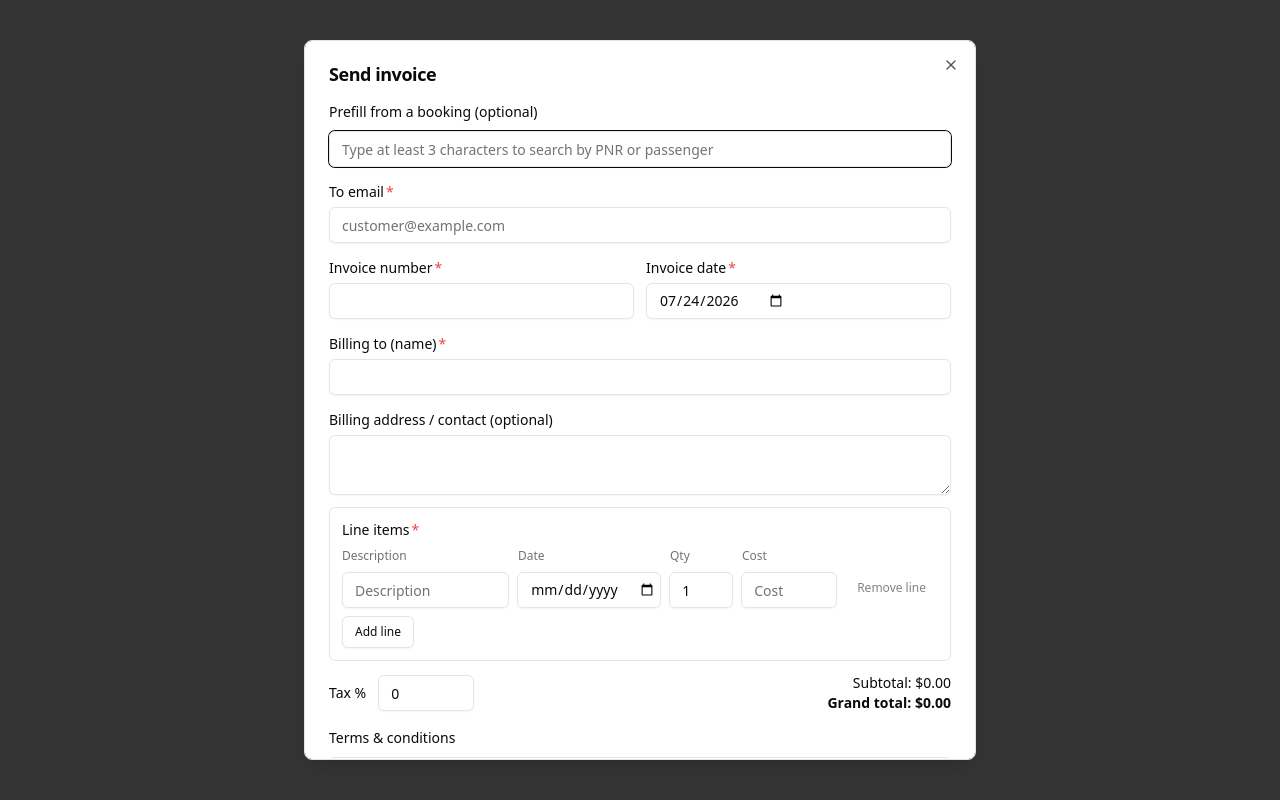
Test: SendInvoiceDialog › computes subtotal and grand total live, applying the tax percentage
Type "GUD" into the field named "Search PNR" at (640, 149), box [329,131,951,167]
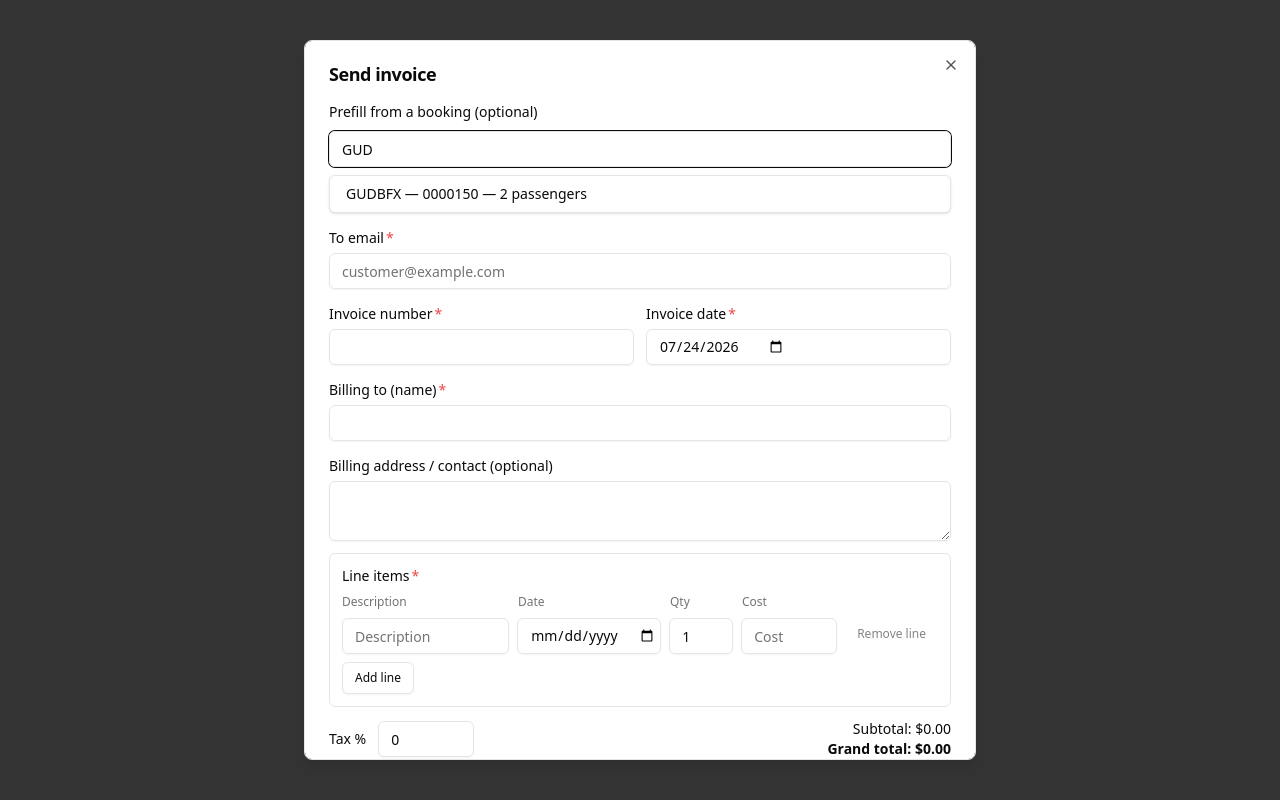
Click the button "GUDBFX — 0000150 — 2 passengers" at (374, 194), box [330,176,950,212]
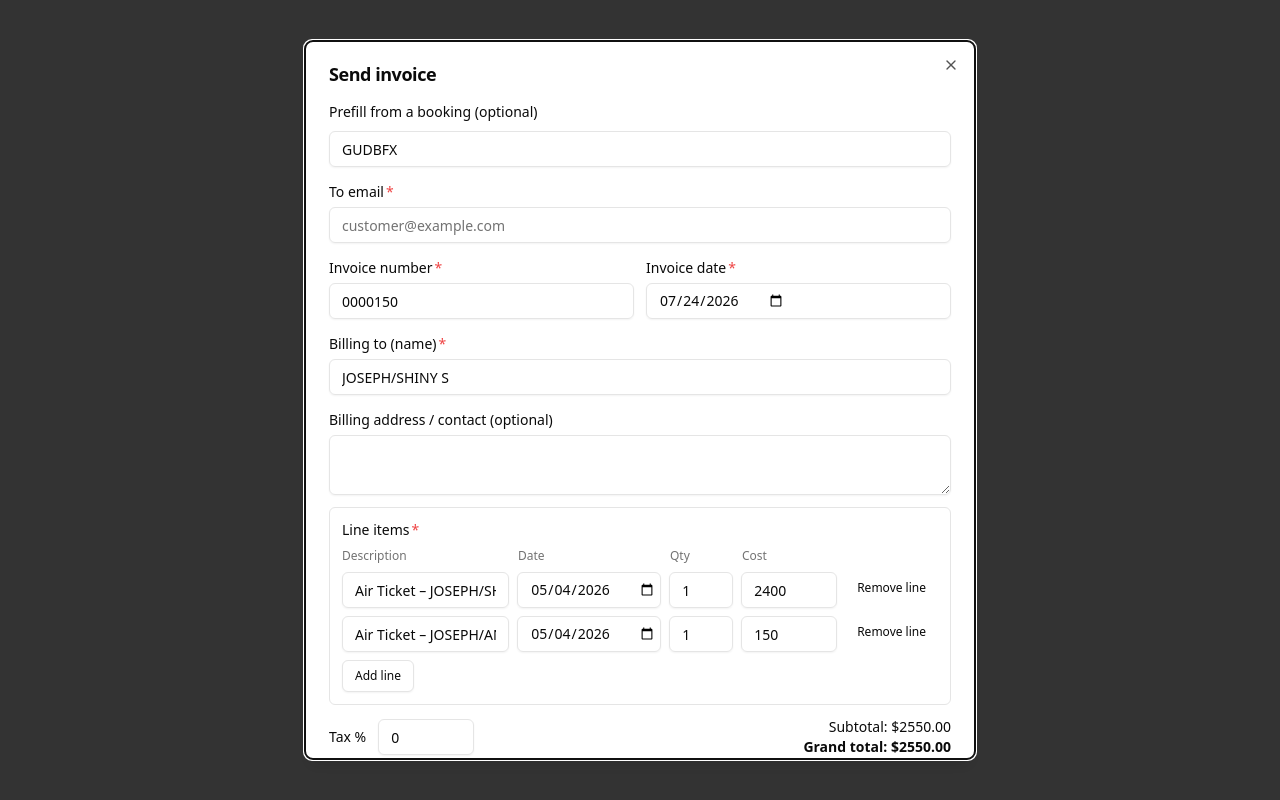
Check: the text "Subtotal: $2550.00" is shown, box [829,717,951,736]
Replace the text in the number field labelled "Tax %" with "10" at (426, 737), box [378,719,474,755]
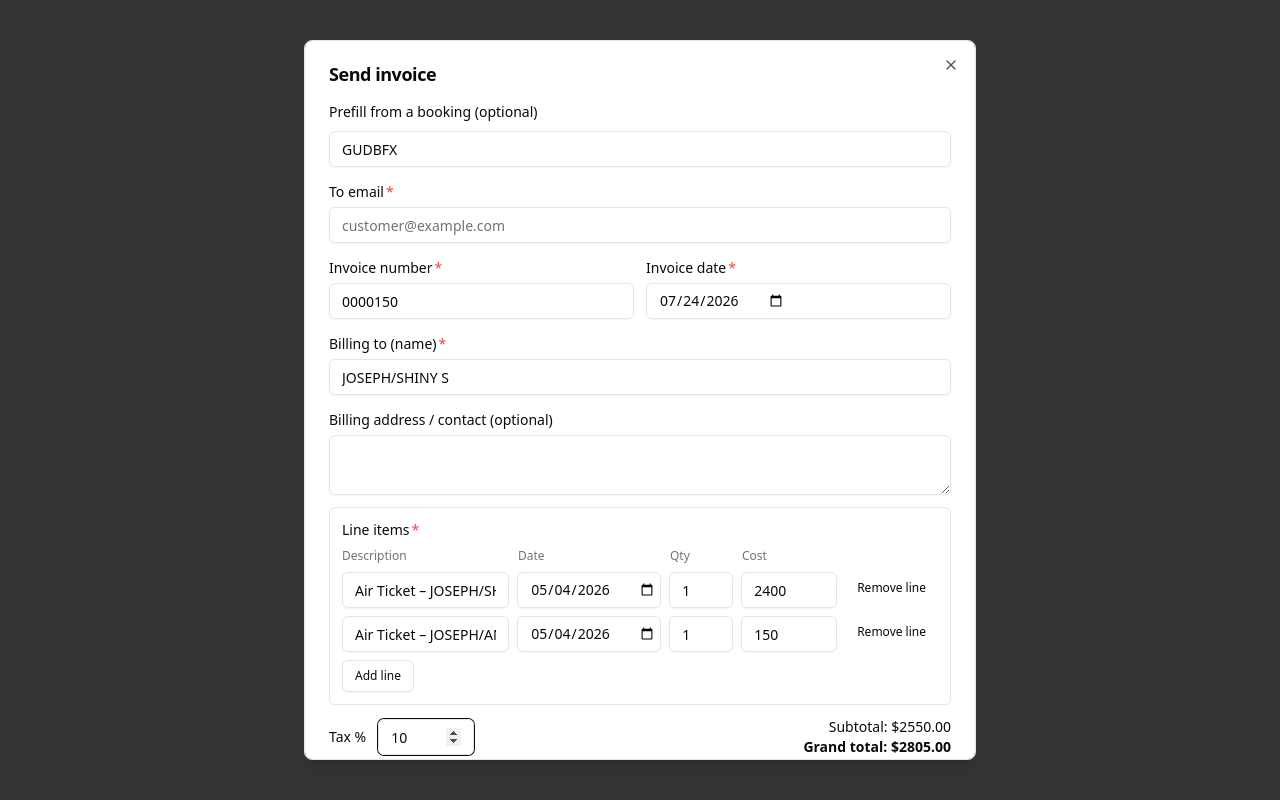
Check: the text "Grand total: $2805.00" is shown, box [803,737,951,757]
